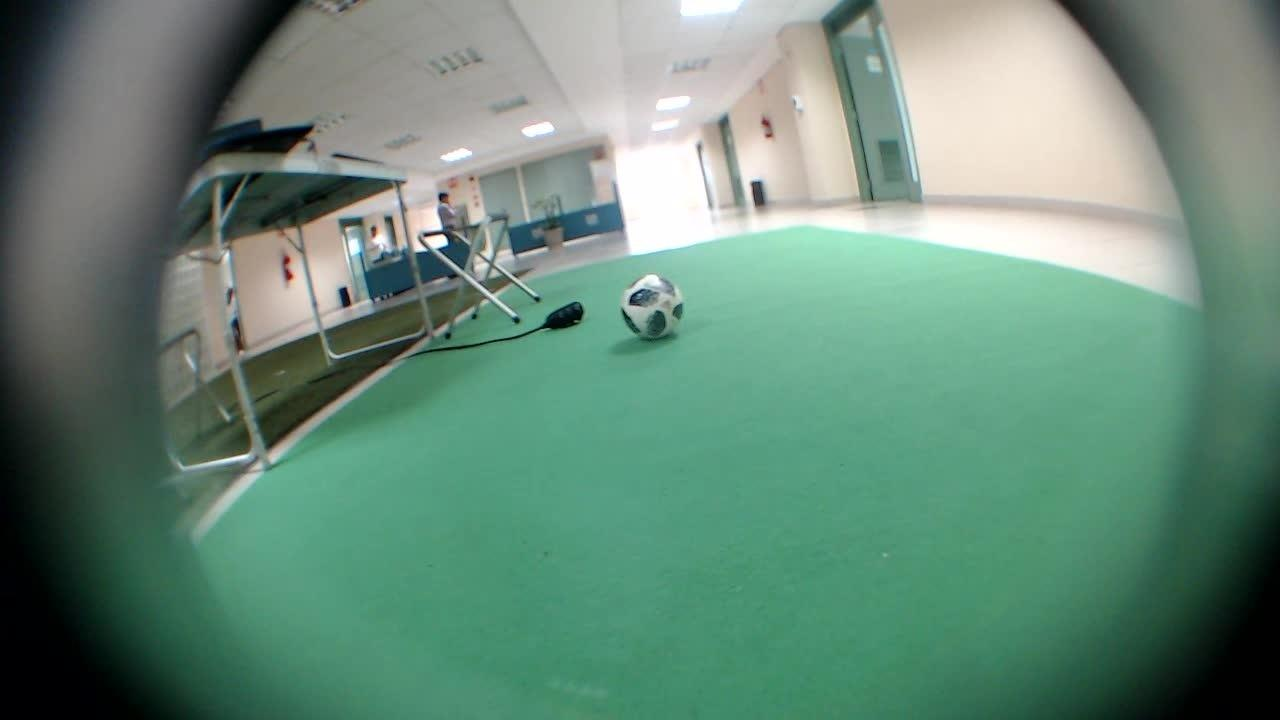ball: (617, 270, 685, 342)
